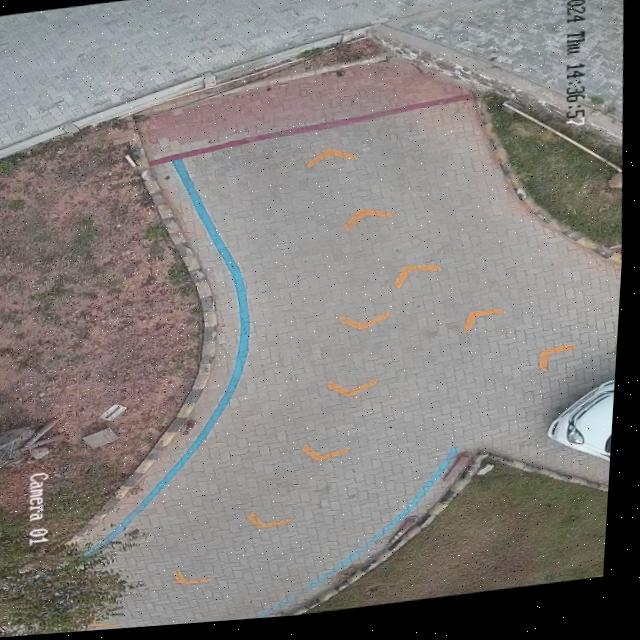car: (553, 388, 620, 471)
